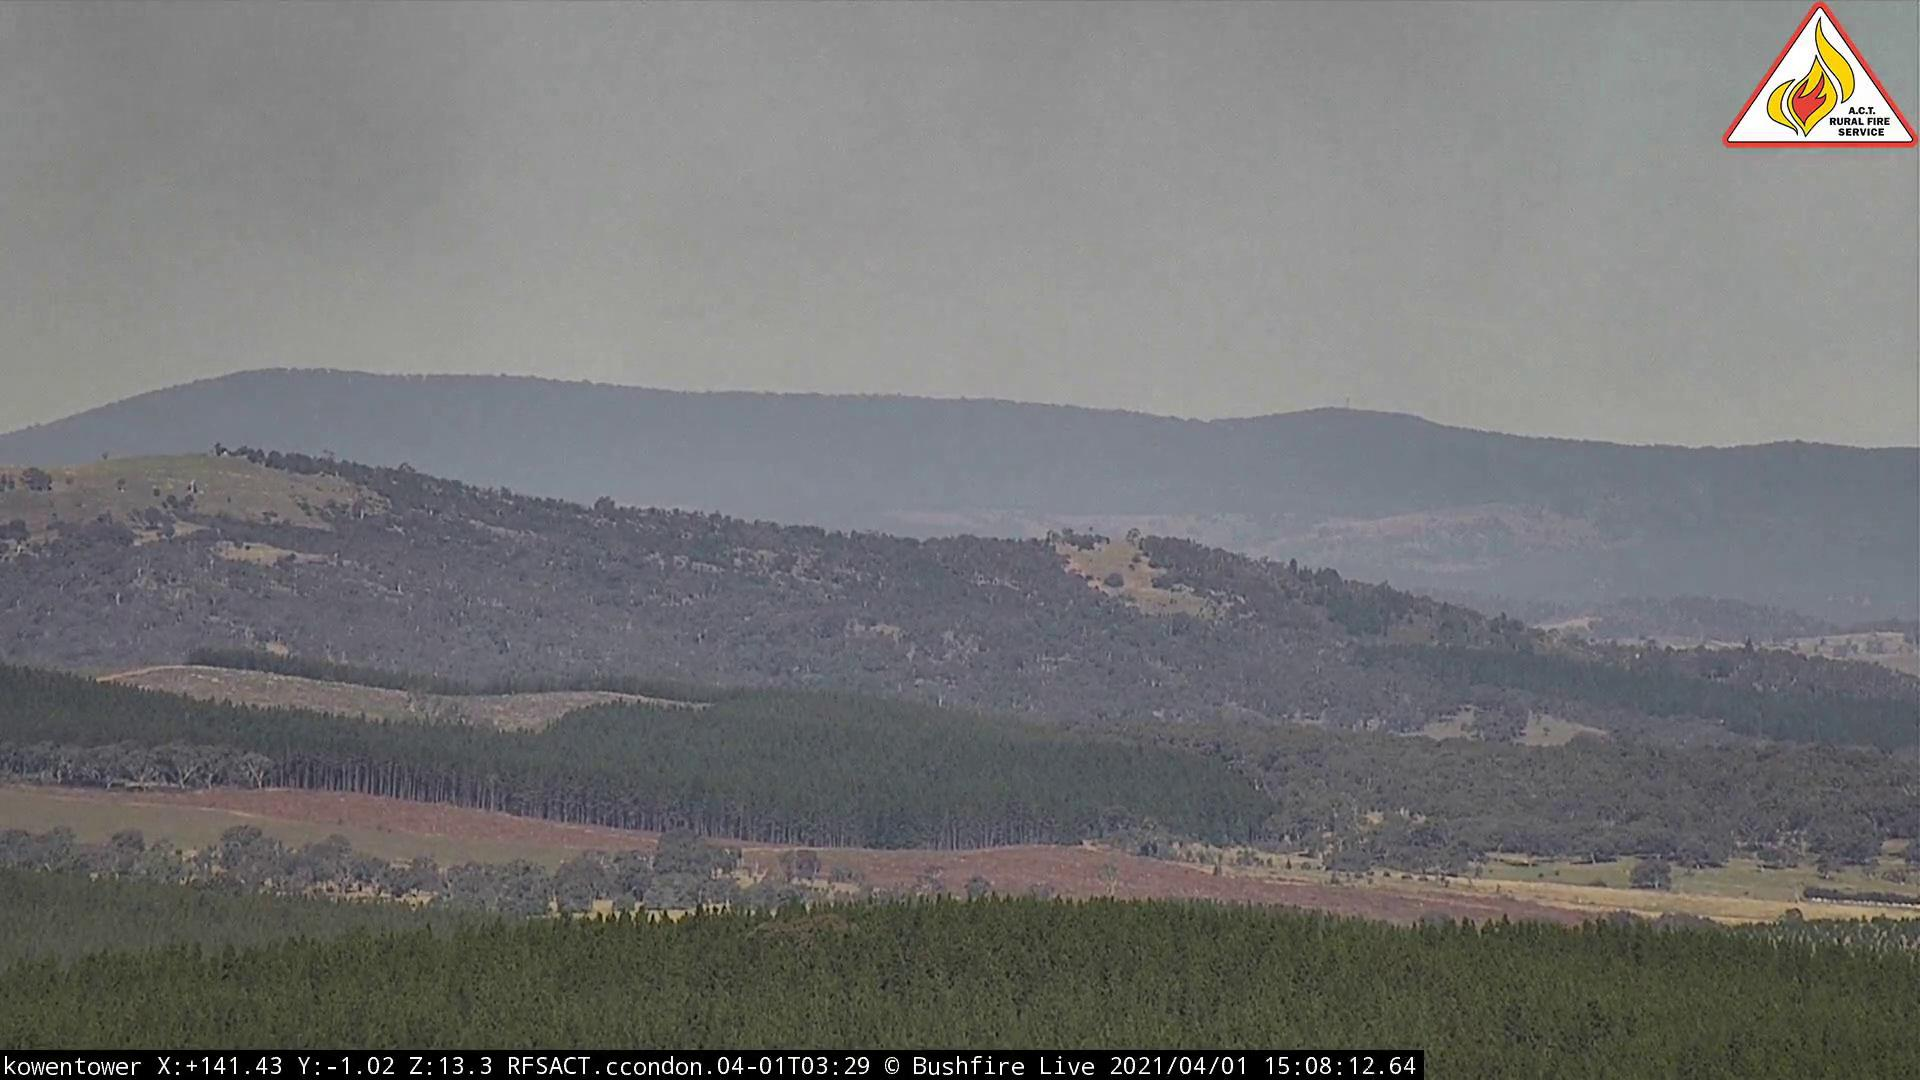Smoke: (3, 3, 1373, 480)
